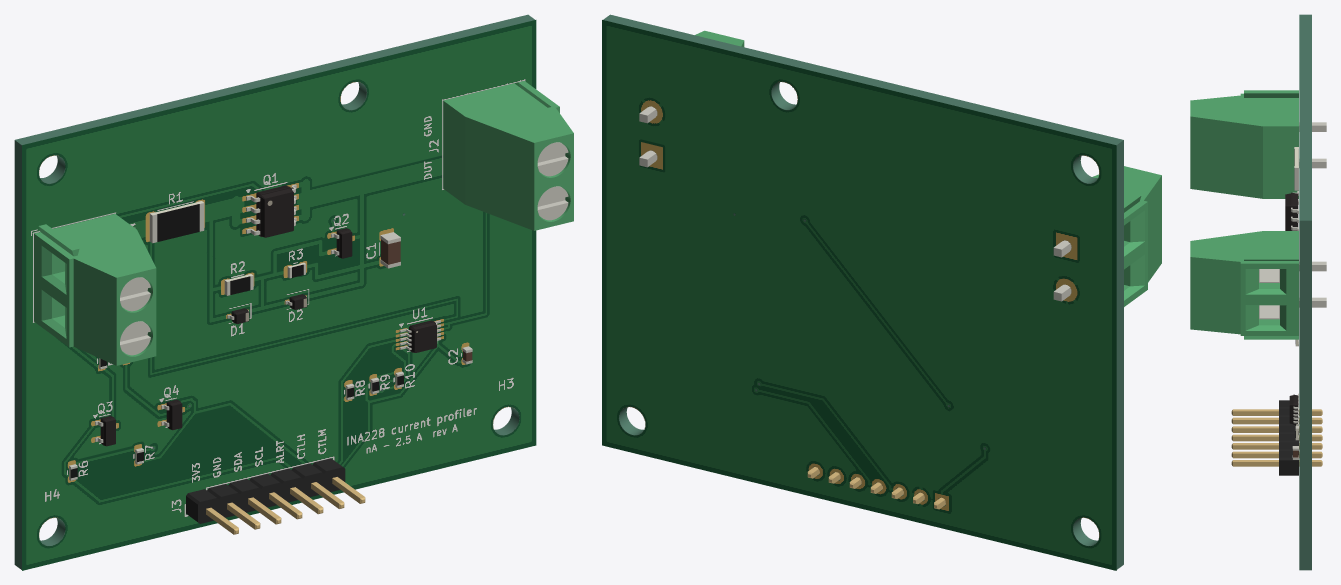
The model's file is current_meter.glb.
3 views of the same model, side by side, from view 1: azimuth 30°, elevation 25°; view 2: azimuth 150°, elevation 25°; view 3: azimuth 270°, elevation 25° (orthographic). The views are drawn at different scales.
Parts seen in each view (by area): view 1: pcb_top_layers, =>[0:1:1:25]_1_837b3d, =>[0:1:1:25]_1_dff40b, =>[0:1:1:25]_2ff920, =>[0:1:1:26]_b3944c, =>[0:1:1:25]_9db370, =>[0:1:1:26]_90ab60, =>[0:1:1:19]_2b5816, =>[0:1:1:25]_1_9aed3e, =>[0:1:1:25]_da0b75, =>[0:1:1:25]_1_29d5dc, =>[0:1:1:25]_4a8cb1 (+2 smaller); view 2: pcb_bottom_layers, =>[0:1:1:26]_b3944c, =>[0:1:1:26]_90ab60, =>[0:1:1:25]_9db370, =>[0:1:1:25]_2ff920, =>[0:1:1:25]_4a8cb1; view 3: =>[0:1:1:25]_f49871, =>[0:1:1:26], =>[0:1:1:25]_1_3e5749, =>[0:1:1:25]_1_dff40b, =>[0:1:1:25]_2ff920, =>[0:1:1:26]_b3944c, =>[0:1:1:25]_1069ff, =>[0:1:1:25]_1_63f3ef, =>[0:1:1:19], =>[0:1:1:25]_1_1072c9, =>[0:1:1:25]_1_71f34f, =>[0:1:1:19]_33b6c6 (+13 smaller).
Boxes of the visible parts, bbox=[...] form: pcb_top_layers: bbox=[22, 20, 536, 570]; =>[0:1:1:25]_1_837b3d: bbox=[465, 117, 534, 230]; =>[0:1:1:25]_1_dff40b: bbox=[444, 81, 573, 142]; =>[0:1:1:25]_2ff920: bbox=[34, 214, 155, 277]; =>[0:1:1:26]_b3944c: bbox=[15, 14, 534, 144]; =>[0:1:1:25]_9db370: bbox=[73, 259, 116, 365]; =>[0:1:1:26]_90ab60: bbox=[14, 140, 21, 569]; =>[0:1:1:19]_2b5816: bbox=[198, 467, 345, 523]; =>[0:1:1:25]_1_9aed3e: bbox=[443, 101, 465, 204]; =>[0:1:1:25]_da0b75: bbox=[116, 268, 156, 365]; =>[0:1:1:25]_1_29d5dc: bbox=[534, 133, 573, 230]; =>[0:1:1:25]_4a8cb1: bbox=[34, 234, 69, 346]; pcb_bottom_layers: bbox=[602, 20, 1116, 570]; =>[0:1:1:26]_b3944c: bbox=[603, 14, 1123, 145]; =>[0:1:1:26]_90ab60: bbox=[1116, 140, 1123, 569]; =>[0:1:1:25]_9db370: bbox=[1144, 175, 1161, 282]; =>[0:1:1:25]_2ff920: bbox=[1092, 166, 1161, 218]; =>[0:1:1:25]_4a8cb1: bbox=[1124, 202, 1147, 306]; =>[0:1:1:25]_f49871: bbox=[1190, 116, 1262, 198]; =>[0:1:1:26]: bbox=[1299, 220, 1311, 570]; =>[0:1:1:25]_1_3e5749: bbox=[1190, 257, 1240, 334]; =>[0:1:1:25]_1_dff40b: bbox=[1190, 231, 1298, 263]; =>[0:1:1:25]_2ff920: bbox=[1190, 93, 1298, 126]; =>[0:1:1:26]_b3944c: bbox=[1299, 14, 1311, 220]; =>[0:1:1:25]_1069ff: bbox=[1263, 126, 1298, 198]; =>[0:1:1:25]_1_63f3ef: bbox=[1240, 263, 1298, 335]; =>[0:1:1:19]: bbox=[1231, 434, 1322, 475]; =>[0:1:1:25]_1_1072c9: bbox=[1245, 305, 1258, 330]; =>[0:1:1:25]_1_71f34f: bbox=[1245, 269, 1258, 294]; =>[0:1:1:19]_33b6c6: bbox=[1279, 460, 1298, 474].
Size of the model in its own units: 0.0621 by 0.0491 by 0.0173.
13 materials, 2 textured.
